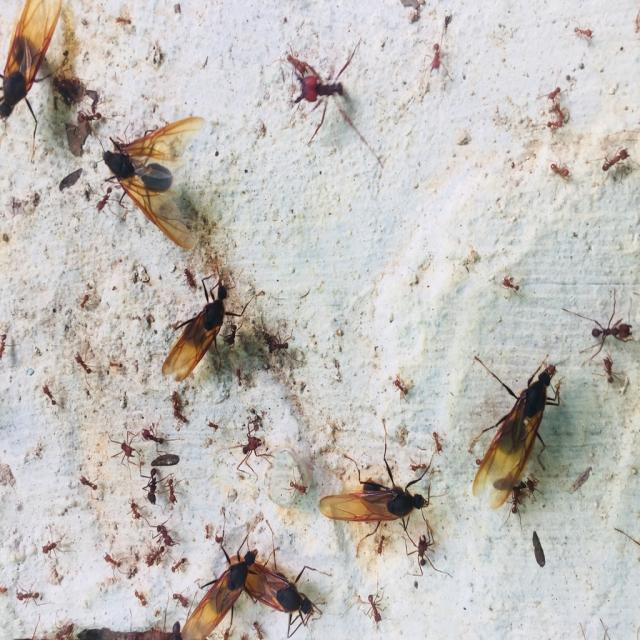Alive-Male-Alate: (318, 417, 451, 558), (468, 353, 572, 510), (86, 116, 206, 250), (181, 507, 280, 640), (226, 519, 334, 639), (162, 258, 264, 382), (0, 0, 67, 163)
